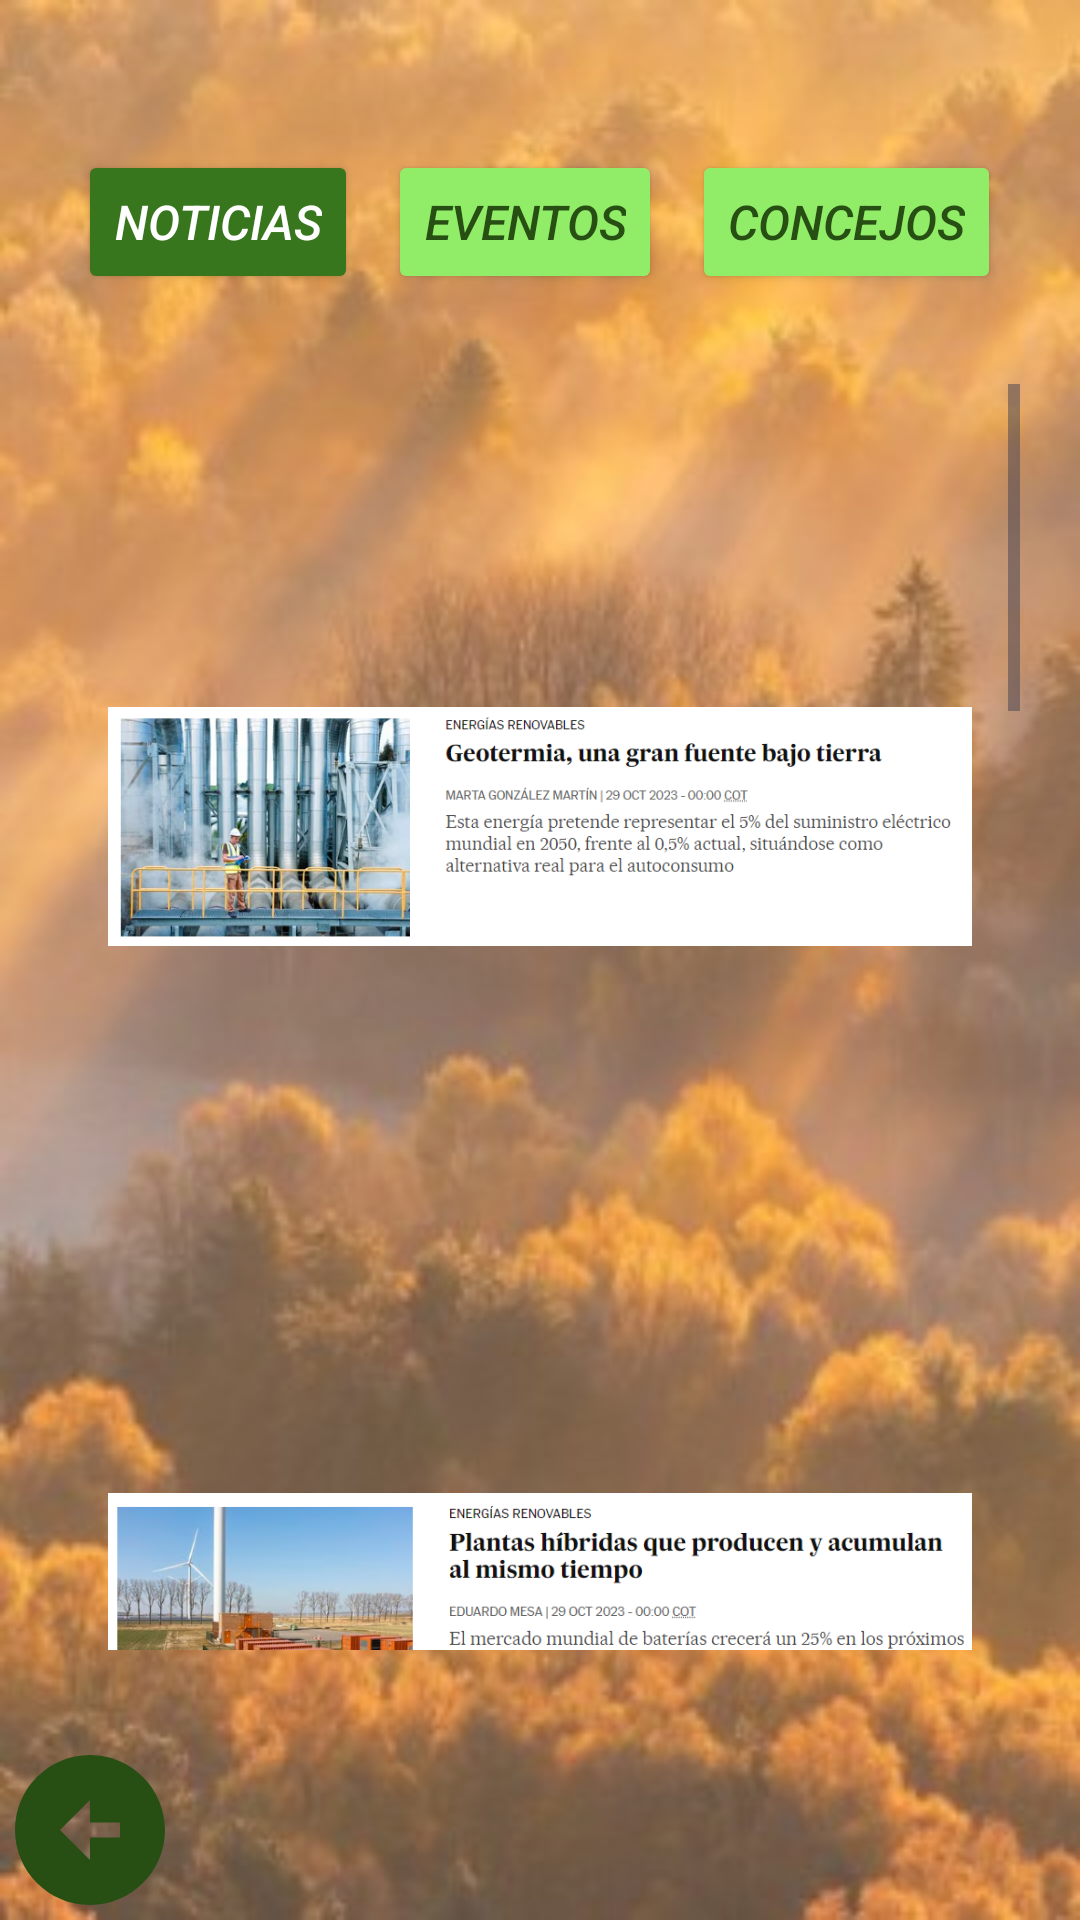

Screen size 1080px×1920px. Icon name, then its center in pixels as point (x, y):
regresar: point (90, 1830)
